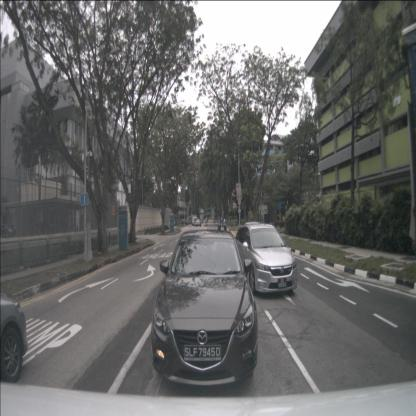vehicle-car: (151, 230, 257, 388), (234, 223, 298, 294), (0, 283, 28, 389), (0, 224, 16, 237), (218, 218, 226, 232), (194, 217, 198, 226), (196, 219, 201, 226)
vehicle-motorcycle: (219, 218, 224, 237)
vehicle-truck: (192, 215, 197, 225)
